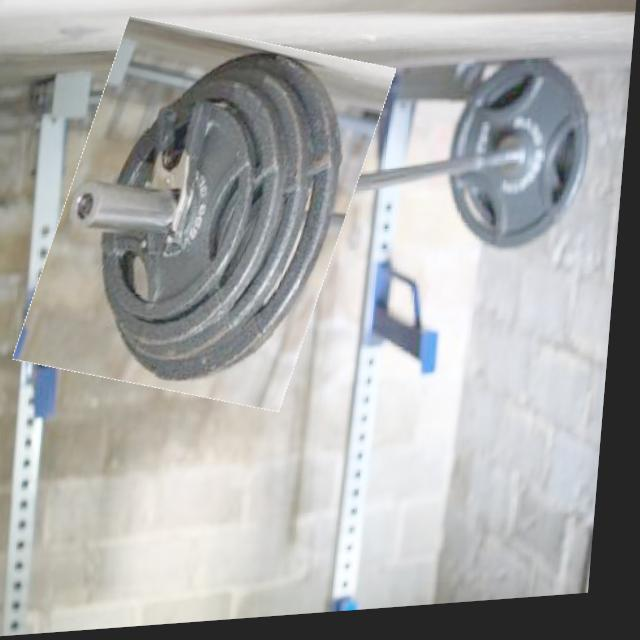barbell: (36, 20, 382, 417)
